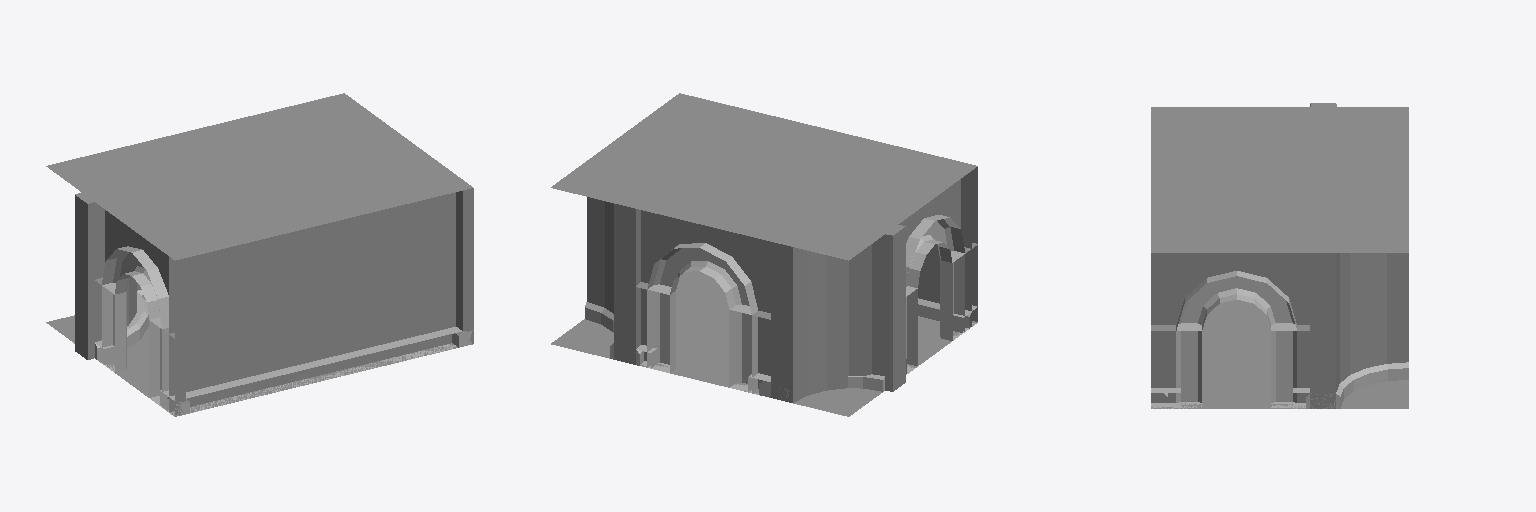
File: interT.obj
3 renders of one model, left to right at view 1: azimuth 30°, elevation 25°; view 2: azimuth 150°, elevation 25°; view 3: azimuth 270°, elevation 25°, orthographic.
Parts seen in each view (by area): view 1: struct_wall_main_half_26, struct_ceiling_10, struct_wall_big_door_upper_28, struct_wall_curved_main_25, struct_wall_big_door_lower_27, struct_floor_main_half_0, struct_wall_base_half_29, struct_wall_big_door_upper_11, struct_wall_big_door_lower_4, struct_wall_curved_base_30; view 2: struct_ceiling_10, struct_wall_curved_main_25, struct_floor_main_half_0, struct_wall_big_door_upper_13, struct_wall_curved_main_15, struct_wall_big_door_lower_12, struct_wall_big_door_upper_28, struct_wall_big_door_lower_27, struct_wall_main_half_26, struct_wall_curved_base_30, struct_wall_curved_base_21; view 3: struct_ceiling_10, struct_wall_curved_main_15, struct_wall_big_door_upper_11, struct_floor_main_half_0, struct_wall_big_door_lower_4, struct_wall_curved_base_21, struct_wall_curved_main_25, struct_wall_big_door_upper_28, struct_wall_big_door_upper_13.
Part boxes in pixels (x1,y1,x2,y2): struct_wall_main_half_26: (169, 192, 455, 411); struct_ceiling_10: (46, 93, 470, 260); struct_wall_big_door_upper_28: (95, 197, 185, 338); struct_wall_curved_main_25: (75, 172, 136, 359); struct_wall_big_door_lower_27: (98, 283, 185, 416); struct_floor_main_half_0: (46, 315, 457, 412); struct_wall_base_half_29: (166, 327, 461, 412); struct_wall_big_door_upper_11: (385, 125, 473, 268); struct_wall_big_door_lower_4: (456, 264, 473, 343); struct_wall_curved_base_30: (95, 292, 148, 359); struct_ceiling_10: (551, 93, 977, 260); struct_wall_curved_main_25: (771, 221, 905, 402); struct_floor_main_half_0: (551, 271, 977, 416); struct_wall_big_door_upper_13: (626, 201, 779, 318); struct_wall_curved_main_15: (587, 152, 648, 364); struct_wall_big_door_lower_12: (636, 282, 770, 393); struct_wall_big_door_upper_28: (882, 167, 977, 288); struct_wall_big_door_lower_27: (906, 243, 977, 373); struct_wall_main_half_26: (918, 171, 971, 326); struct_wall_curved_base_30: (759, 374, 884, 398); struct_wall_curved_base_21: (585, 302, 643, 365); struct_ceiling_10: (1151, 107, 1408, 252); struct_wall_curved_main_15: (1310, 211, 1408, 408); struct_wall_big_door_upper_11: (1151, 247, 1322, 330); struct_floor_main_half_0: (1153, 300, 1408, 408); struct_wall_big_door_lower_4: (1151, 323, 1309, 408); struct_wall_curved_base_21: (1306, 362, 1408, 408); struct_wall_curved_main_25: (1310, 103, 1408, 143); struct_wall_big_door_upper_28: (1151, 107, 1322, 111); struct_wall_big_door_upper_13: (1396, 143, 1408, 210).
Size of the model in its own units: 4.1 by 2 by 3.